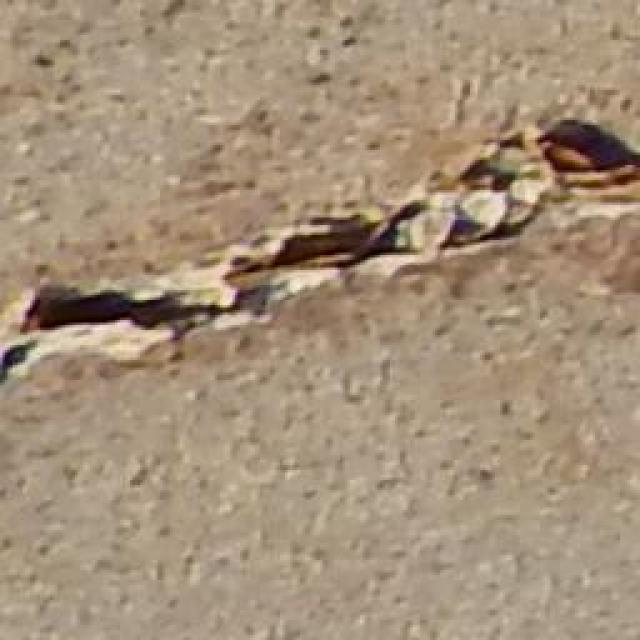concrete-crack: (0, 111, 640, 386)
